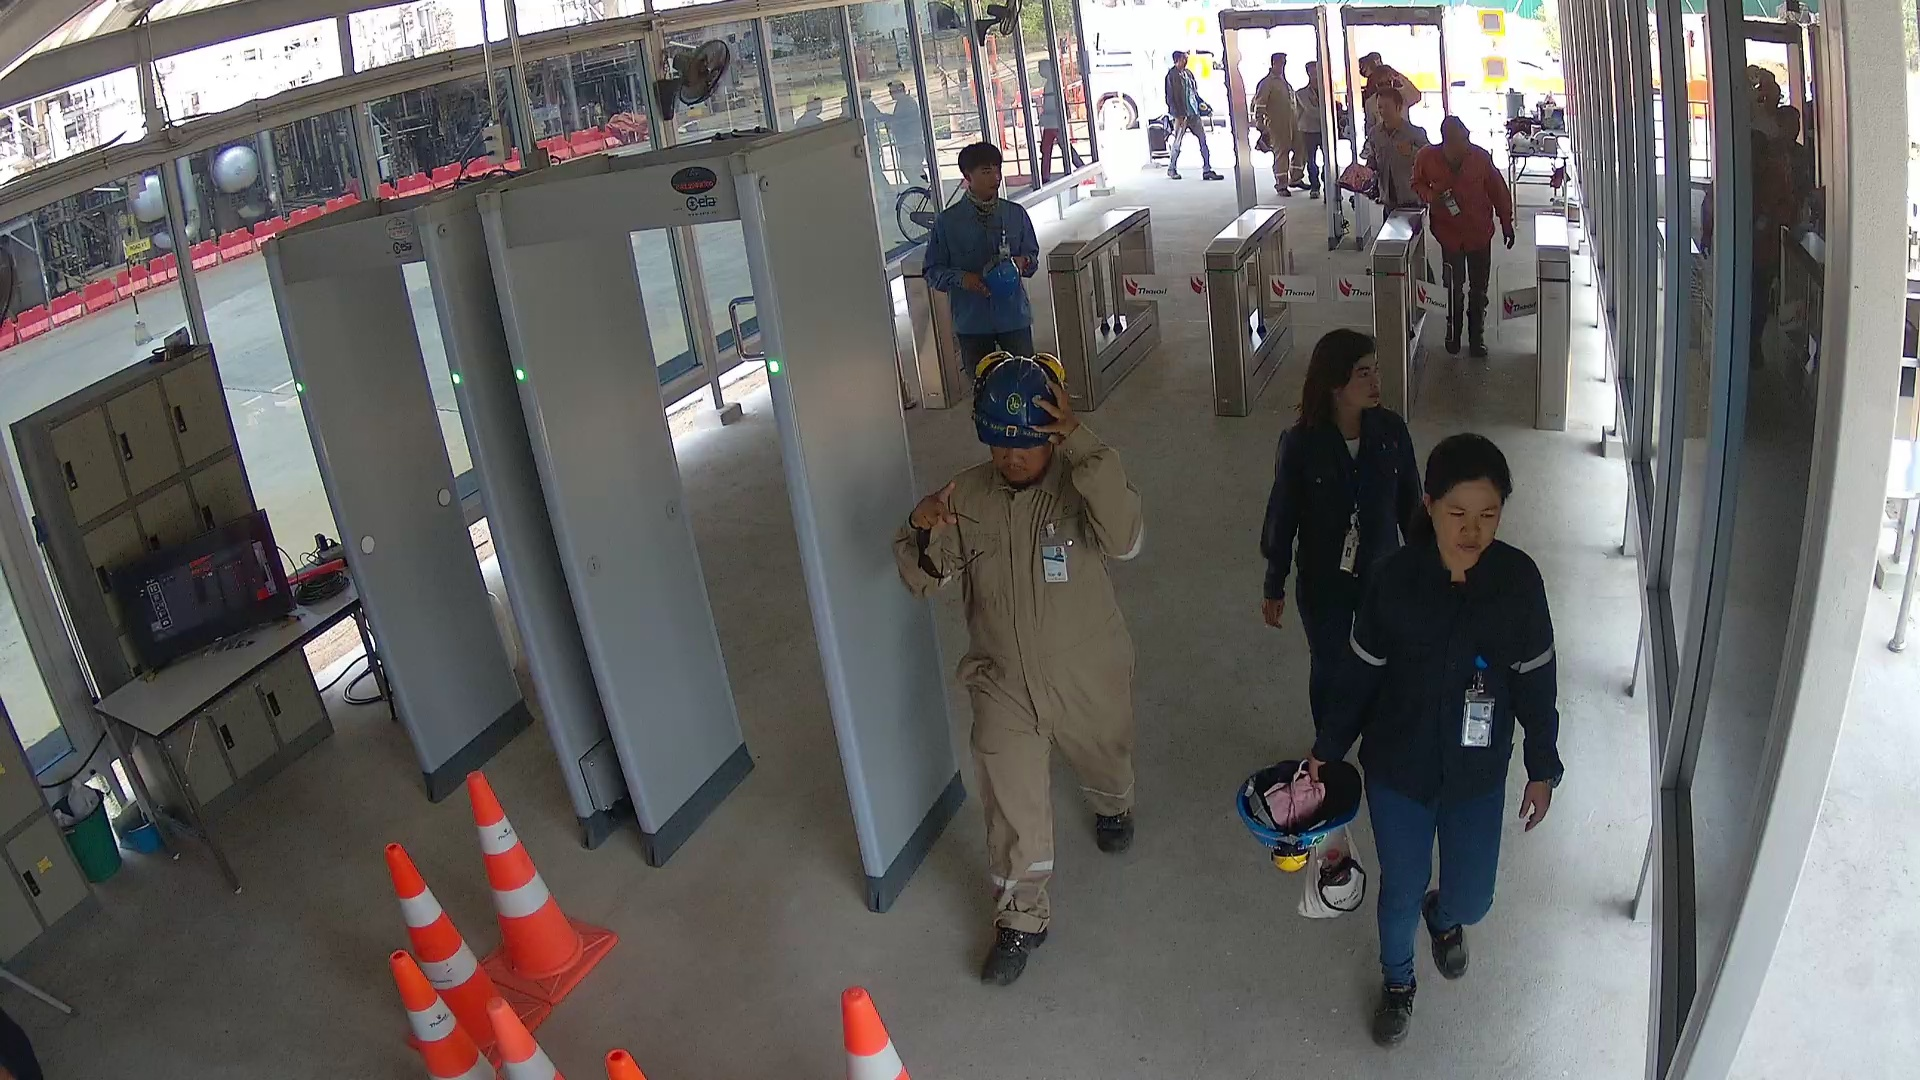face: (1420, 430, 1513, 566), (1308, 330, 1379, 409), (957, 141, 1004, 199), (1441, 118, 1469, 154), (1376, 92, 1403, 124)
face_helmet: (990, 445, 1053, 483)
helmet_with_man: (976, 356, 1063, 444)
man_with_helmet: (977, 351, 1057, 482)
